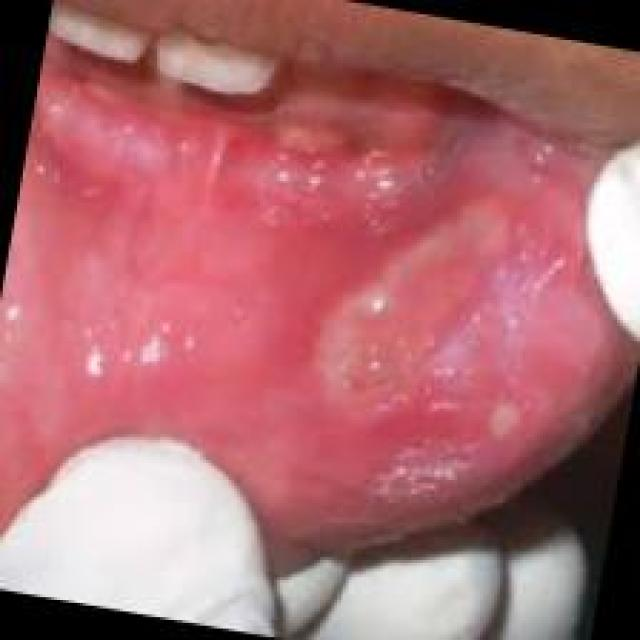processing_area: (0, 69, 614, 533)
ulcer-detection: (251, 156, 581, 455)
